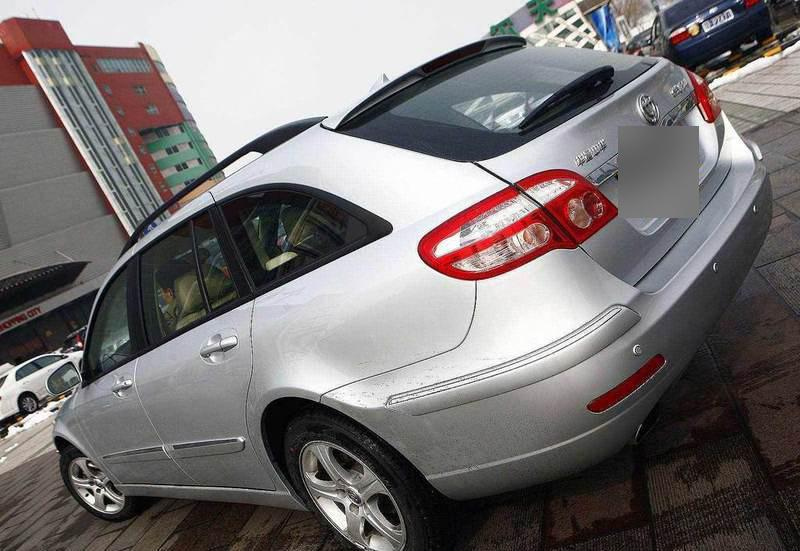Wagon: (43, 33, 774, 551)
